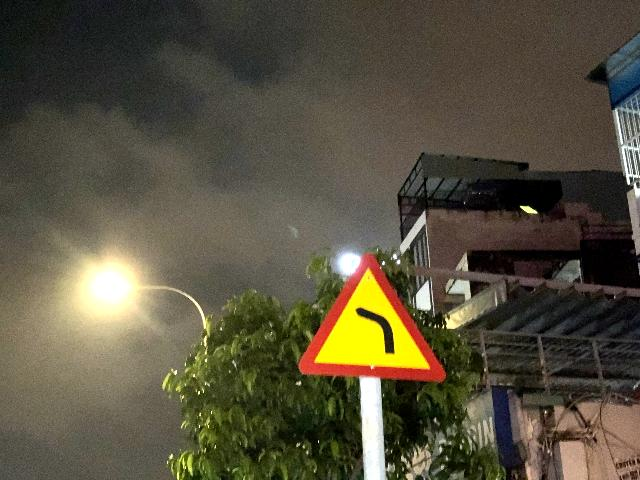cho-ngoat-nguy-hiem-ben-trai: (298, 251, 447, 384)
